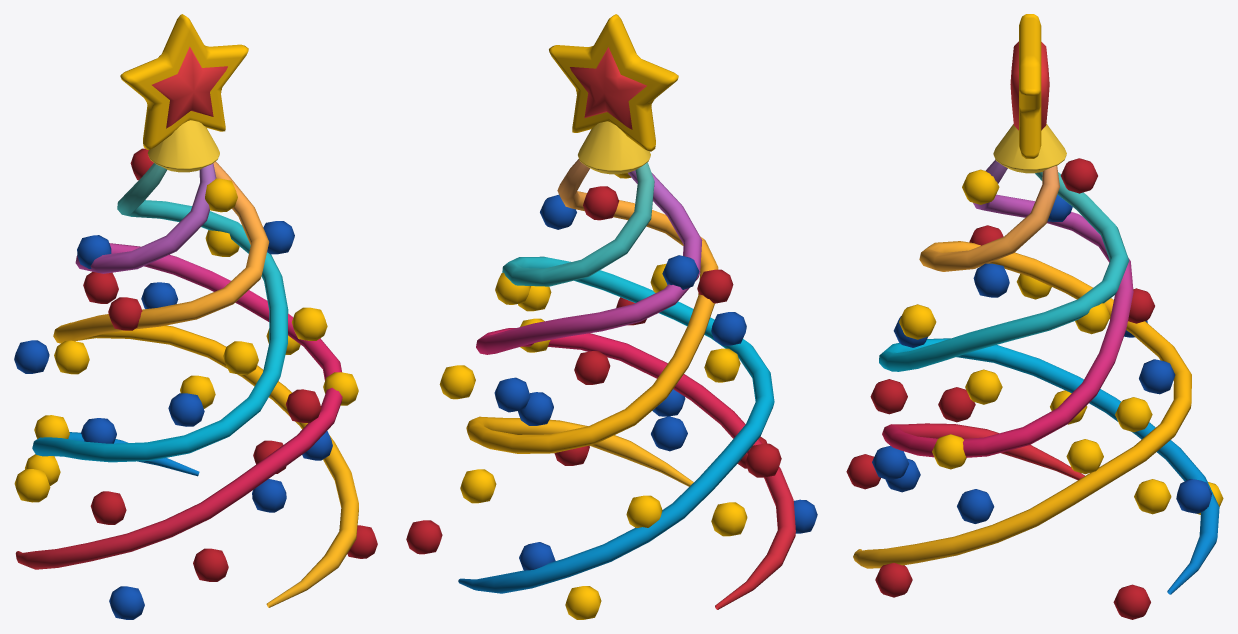
The model's file is Christmass_tree_indoor_001_toys.fbx.
The picture shows the model from 3 angles, left to right: view 1: azimuth 30°, elevation 25°; view 2: azimuth 150°, elevation 25°; view 3: azimuth 270°, elevation 25°; orthographic projection.
Visible parts, largest first — view 1: Christmass_tree_indoor_001_toys; view 2: Christmass_tree_indoor_001_toys; view 3: Christmass_tree_indoor_001_toys.
Boxes of the visible parts, bbox=[...] form: Christmass_tree_indoor_001_toys: bbox=[14, 14, 377, 619]; Christmass_tree_indoor_001_toys: bbox=[406, 14, 817, 619]; Christmass_tree_indoor_001_toys: bbox=[846, 14, 1223, 619].
Size of the model in its own units: 158 by 161 by 254.
